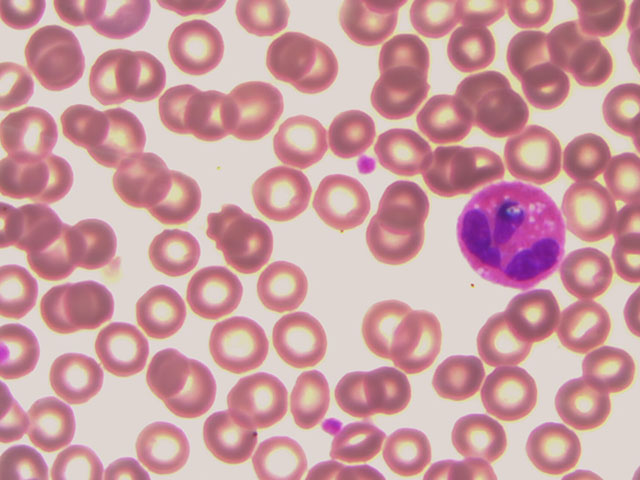Platelets: (350, 153, 384, 180), (321, 410, 342, 437)
RBC: (221, 80, 282, 138), (270, 111, 331, 169), (249, 162, 310, 220), (311, 173, 372, 231), (362, 212, 423, 270), (374, 178, 435, 236), (377, 120, 438, 178), (324, 104, 385, 162), (362, 69, 423, 127), (376, 34, 437, 92), (298, 43, 359, 101), (265, 30, 326, 88), (170, 18, 231, 76), (180, 84, 241, 142), (150, 78, 211, 136), (127, 49, 188, 107), (82, 47, 143, 105), (31, 42, 92, 100), (18, 18, 79, 76), (55, 86, 116, 144), (88, 105, 149, 163), (102, 141, 163, 199), (155, 172, 216, 230), (69, 218, 130, 276), (33, 230, 94, 288), (4, 200, 65, 258), (29, 151, 90, 209), (12, 146, 73, 204), (29, 280, 90, 338), (66, 273, 127, 331), (88, 315, 149, 373), (44, 352, 105, 410), (26, 392, 87, 450), (129, 347, 190, 405), (164, 359, 225, 417), (129, 417, 190, 475), (199, 411, 260, 469), (229, 373, 290, 431), (209, 317, 270, 375), (185, 262, 246, 320), (129, 283, 190, 341), (145, 222, 206, 280), (199, 197, 260, 255), (221, 219, 282, 277), (256, 257, 317, 315), (271, 309, 332, 367), (281, 362, 342, 420), (322, 364, 383, 422), (369, 364, 430, 422), (387, 310, 448, 368), (347, 290, 408, 348), (430, 352, 491, 410), (473, 310, 534, 368), (509, 282, 570, 340), (549, 296, 610, 354), (579, 335, 640, 393), (559, 373, 620, 431), (521, 420, 582, 478), (455, 406, 516, 464), (475, 367, 536, 425), (387, 422, 448, 480), (337, 422, 398, 480), (417, 145, 478, 203), (503, 124, 564, 182), (482, 93, 543, 151), (456, 72, 517, 130), (421, 92, 482, 150), (444, 23, 505, 81), (502, 24, 563, 82), (521, 59, 582, 117), (557, 119, 618, 177), (562, 178, 623, 236), (564, 240, 625, 298), (565, 24, 626, 82), (1, 107, 61, 165)
WBC: (455, 182, 569, 287)
